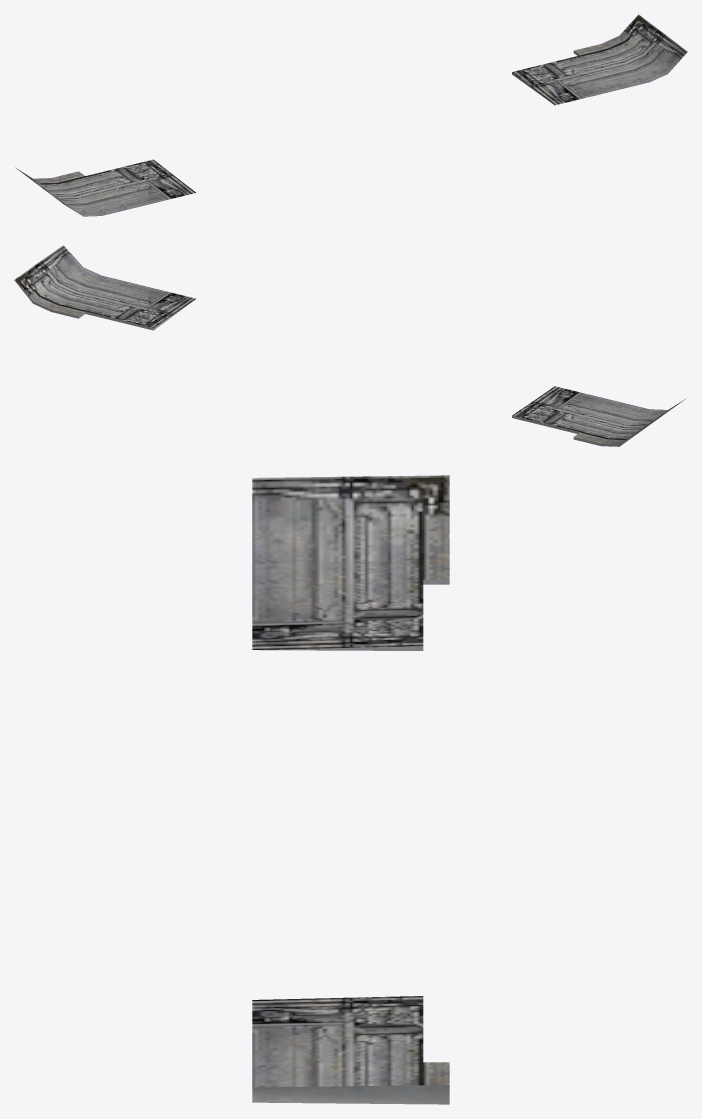
Rendered from lambda_geardoor_a_l1.fbx.
3 renders of one model, top to bottom at view 1: azimuth 30°, elevation 25°; view 2: azimuth 150°, elevation 25°; view 3: azimuth 270°, elevation 25°, orthographic. The views are drawn at different scales.
Parts seen in each view (by area): view 1: mesh_node; view 2: mesh_node; view 3: mesh_node.
Part boxes in pixels (<box>): mesh_node: <box>15,14,687,216</box>; mesh_node: <box>14,245,685,446</box>; mesh_node: <box>252,475,449,1104</box>.
Size of the model in its own units: 13.68 by 0.4802 by 1.88.
